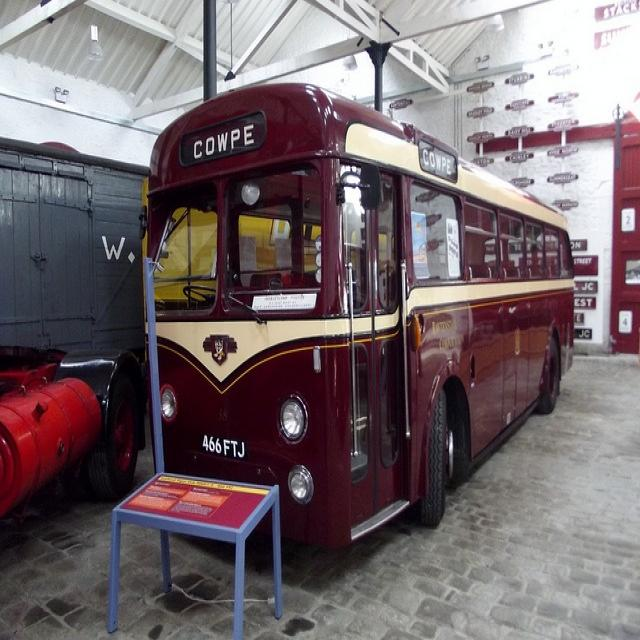bus: (139, 86, 576, 574)
truck: (1, 139, 150, 485)
